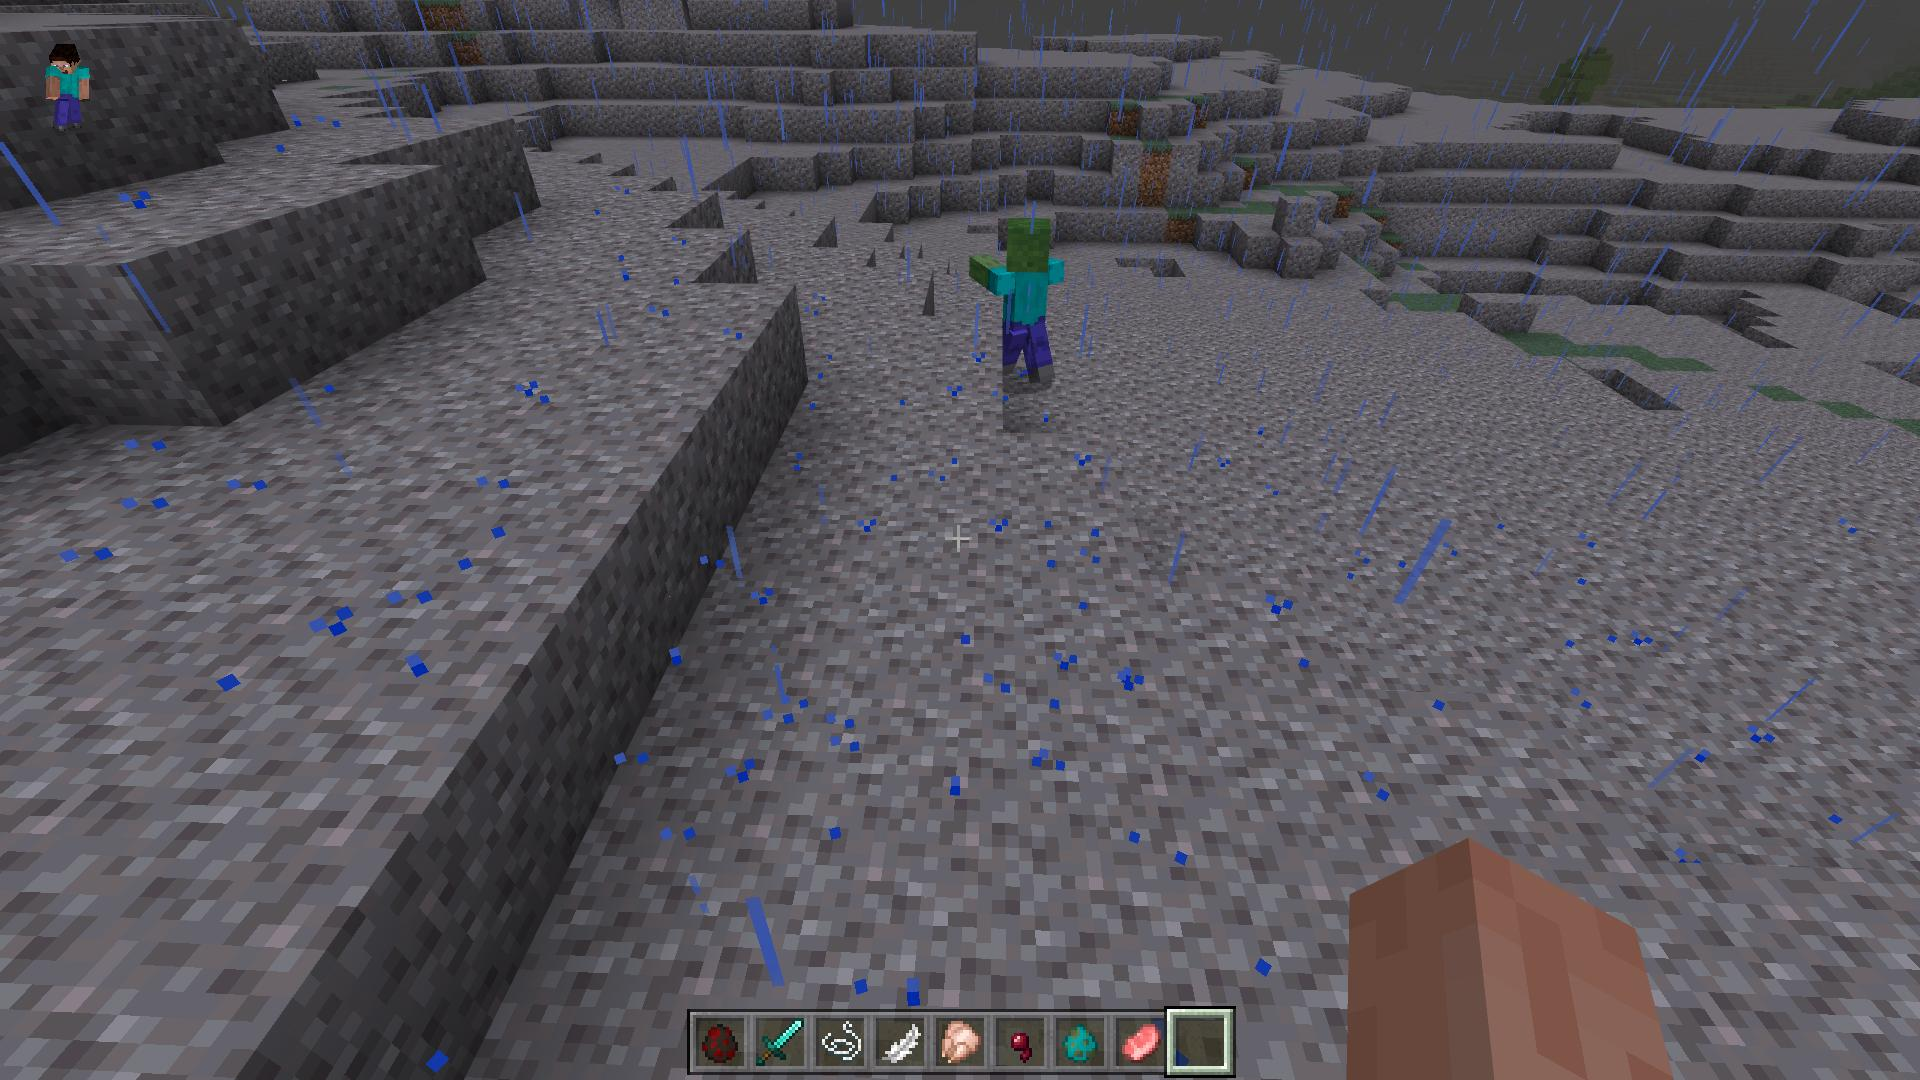zombie: (971, 214, 1065, 392)
